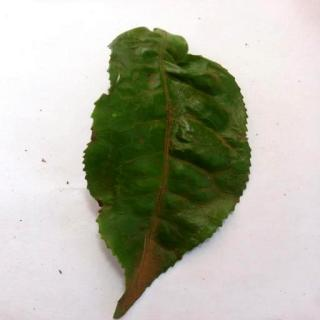Algal Leaf: (83, 25, 254, 320)
